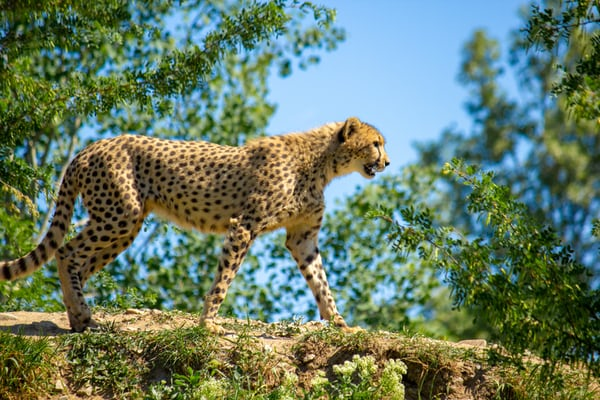cheetah: (317, 111, 397, 185)
